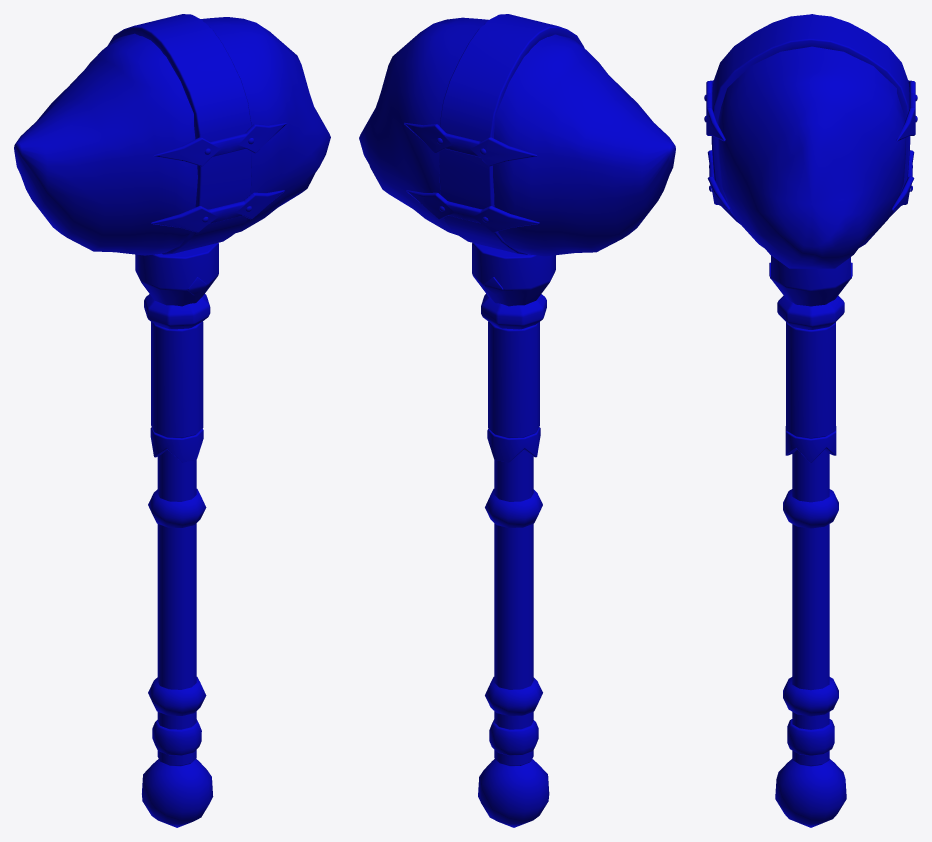
The model's file is MACE003.FBX.
3 views of the same model, side by side, from view 1: azimuth 30°, elevation 25°; view 2: azimuth 150°, elevation 25°; view 3: azimuth 270°, elevation 25° (orthographic).
Parts seen in each view (by area): view 1: Mace003_Stone, Mace003_Handle, Mace003_Band; view 2: Mace003_Stone, Mace003_Handle, Mace003_Band; view 3: Mace003_Stone, Mace003_Handle, Mace003_Band.
Boxes of the visible parts, x1=… form: Mace003_Stone: x1=14, y1=17, x2=330, y2=255; Mace003_Handle: x1=135, y1=243, x2=218, y2=827; Mace003_Band: x1=108, y1=14, x2=286, y2=254; Mace003_Stone: x1=359, y1=17, x2=675, y2=256; Mace003_Handle: x1=472, y1=242, x2=555, y2=827; Mace003_Band: x1=404, y1=14, x2=584, y2=254; Mace003_Stone: x1=718, y1=14, x2=905, y2=268; Mace003_Handle: x1=769, y1=255, x2=852, y2=827; Mace003_Band: x1=704, y1=14, x2=917, y2=224.
Size of the model in its own units: 0.2822 by 0.7041 by 0.1698.
